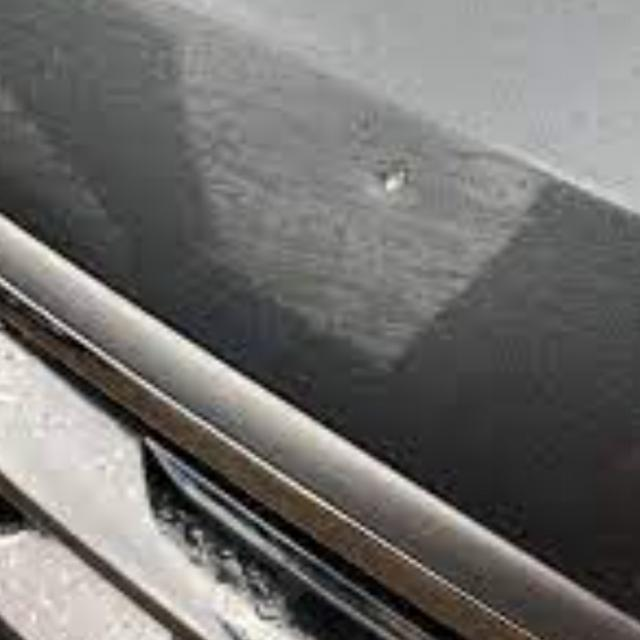dents: (367, 146, 411, 220)
